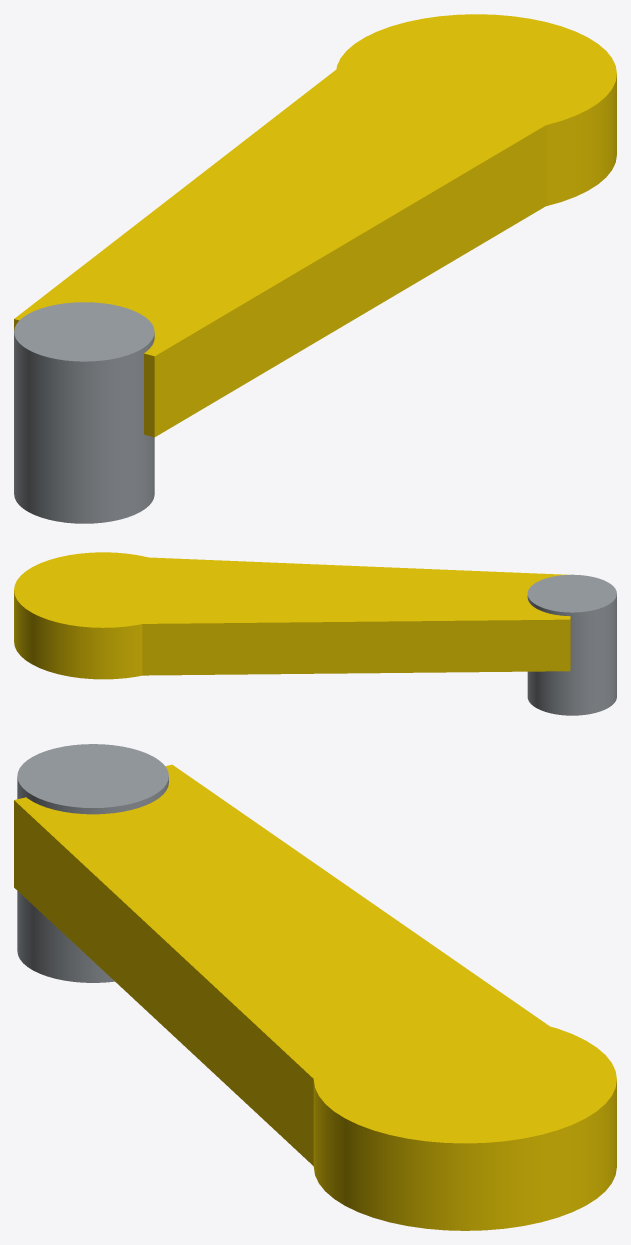
The model's file is crank_link.obj.
3 renders of one model, top to bottom at view 1: azimuth 30°, elevation 25°; view 2: azimuth 150°, elevation 25°; view 3: azimuth 270°, elevation 25°, orthographic. The views are drawn at different scales.
Visible parts, largest first — view 1: crank_lever, crank_hub, crank_pin; view 2: crank_lever, crank_hub, crank_pin; view 3: crank_lever, crank_hub, crank_pin.
Part boxes in pixels (x1,y1,x2,y2): crank_lever: (14, 45, 583, 437); crank_hub: (336, 14, 616, 206); crank_pin: (14, 302, 154, 523); crank_lever: (100, 555, 570, 675); crank_hub: (14, 552, 191, 679); crank_pin: (527, 574, 616, 715); crank_lever: (14, 764, 586, 1165); crank_hub: (313, 1016, 616, 1230); crank_pin: (17, 744, 168, 982).
Size of the model in its own units: 0.675 by 0.14 by 0.4374.
